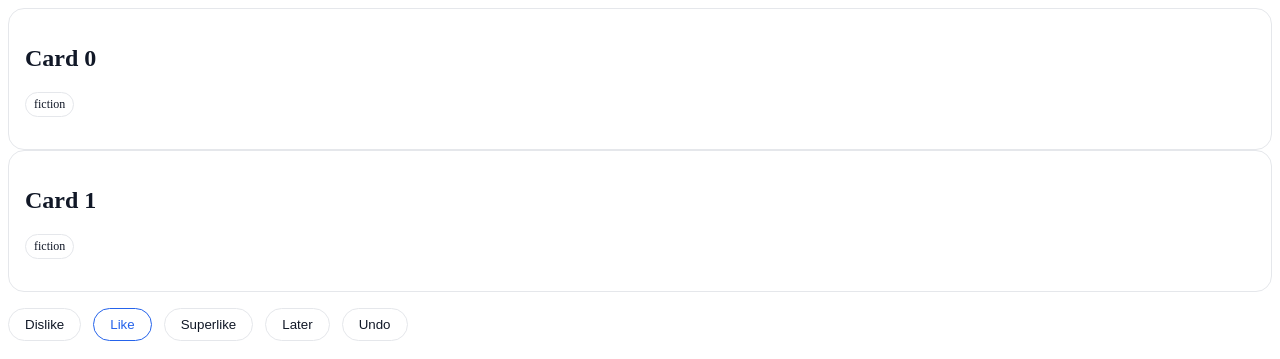
SwipeDeck › maps arrow keys and undo
Press ArrowLeft in the element named "Swipe deck"
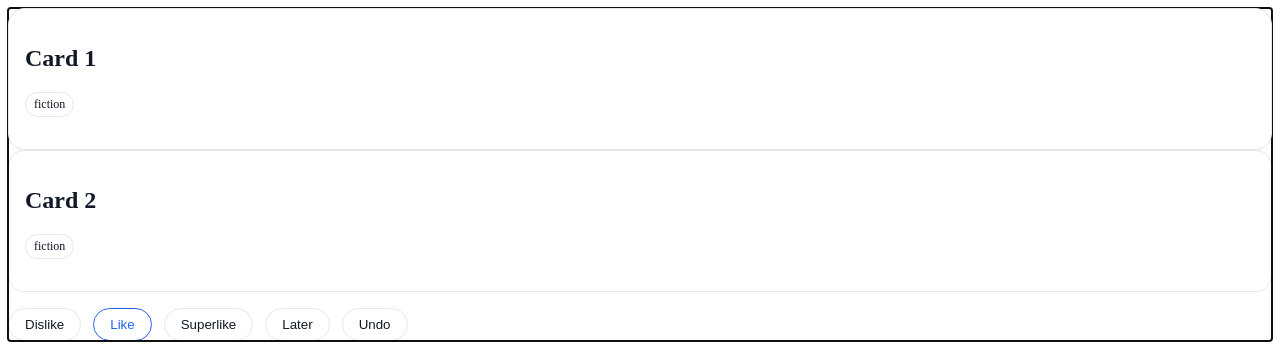
Expected: the heading "Card 1" is shown, [25, 45, 96, 71]
Click the button "Undo" at (375, 324), box [342, 308, 408, 341]
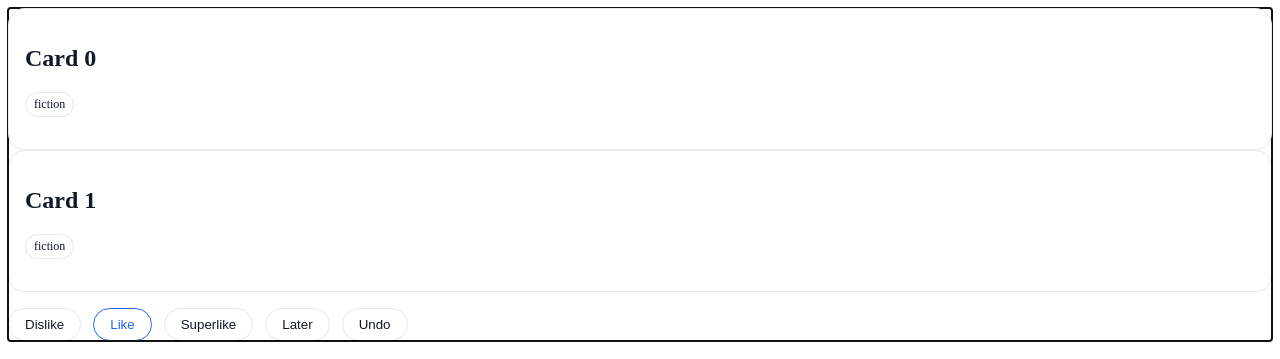
Expected: the heading "Card 0" is shown, [25, 45, 96, 71]
